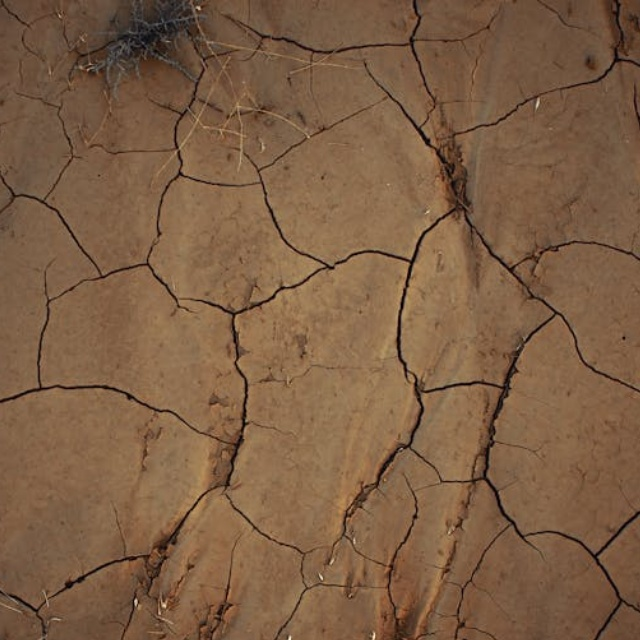细微裂纹: (0, 82, 248, 243), (0, 329, 268, 458)
网状裂隙: (179, 0, 640, 640)
